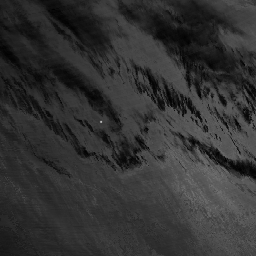Target: (98, 119, 103, 124)
